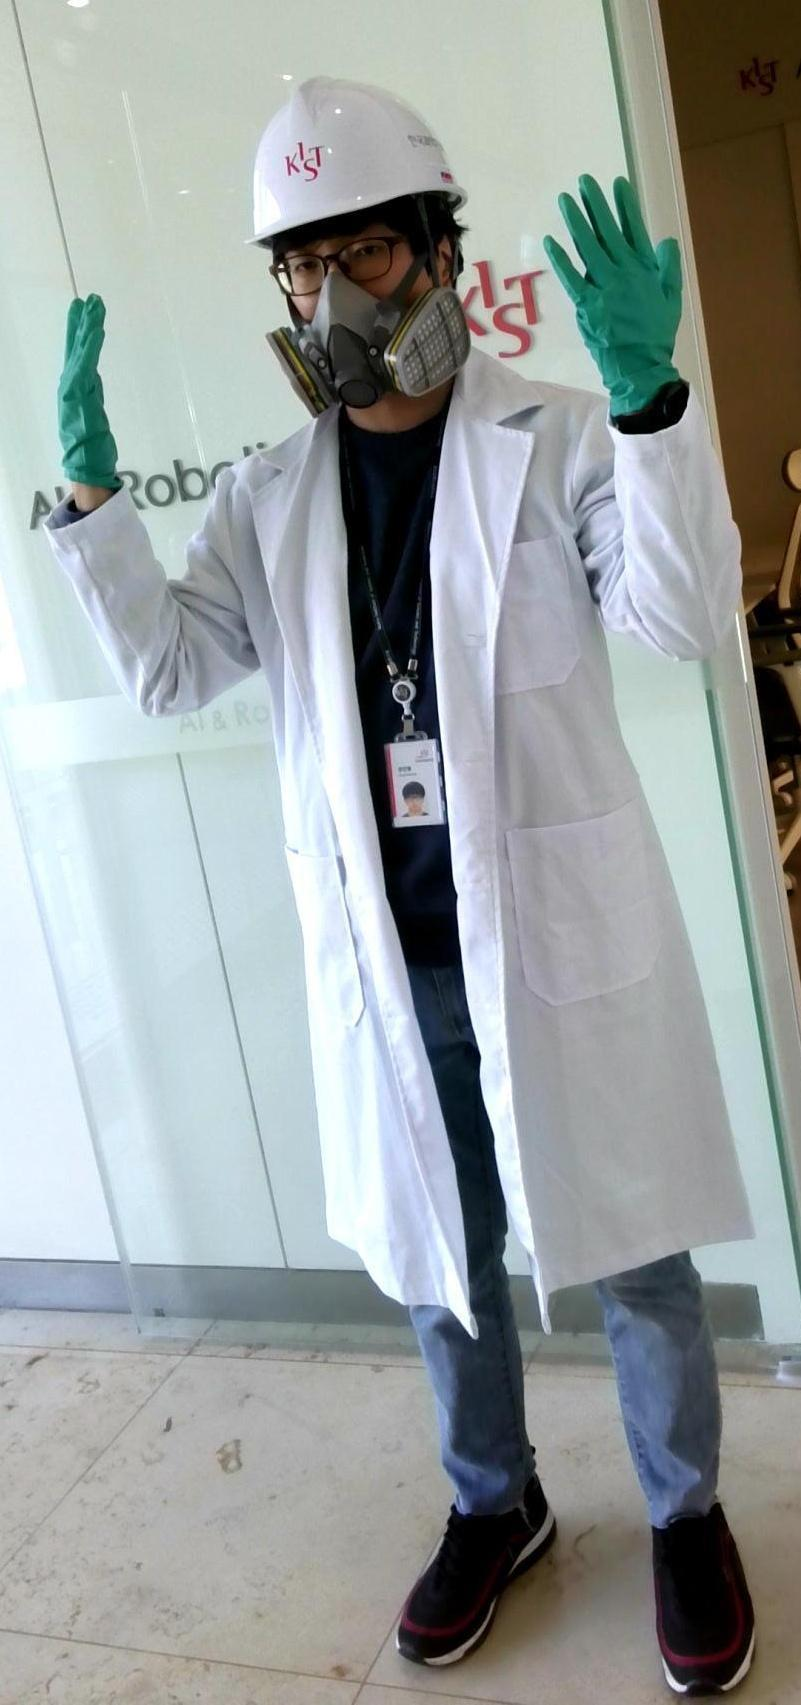lab_coat: (245, 408, 710, 1315)
